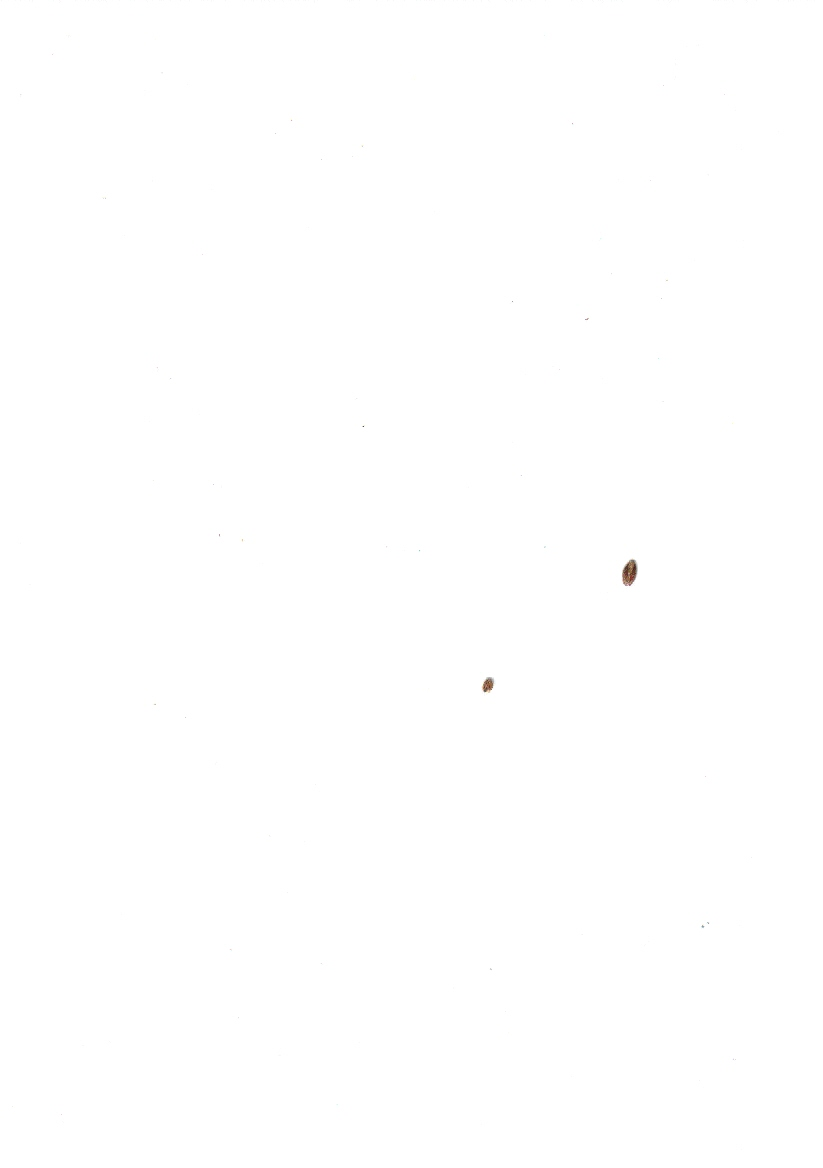grains: (611, 546, 653, 601), (475, 667, 501, 708)
